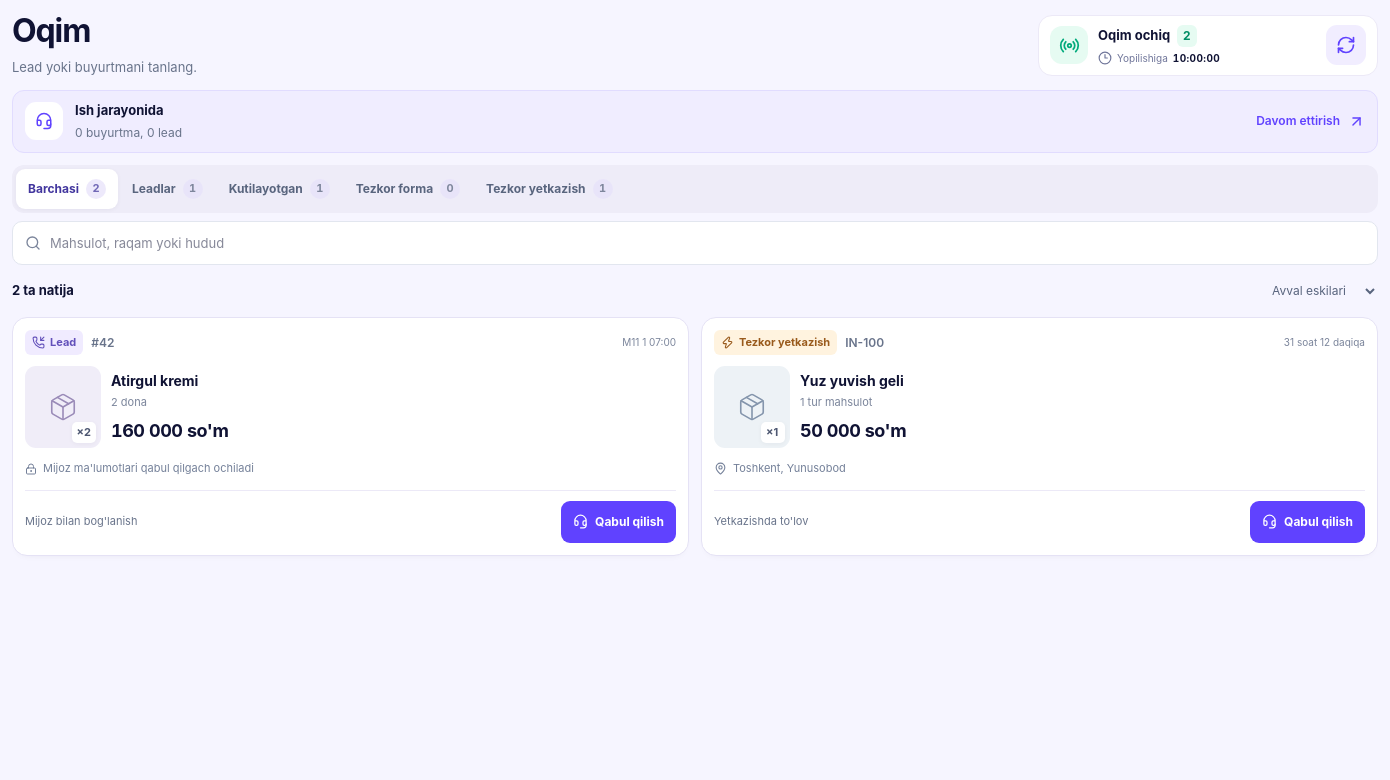
Test case: operator lead rendering regression › shows both types by default and keeps lead filtering independent of orders
Step 1. Click the button "Leadlar 1" → click(167, 189), box left=120, top=169, right=215, bottom=209
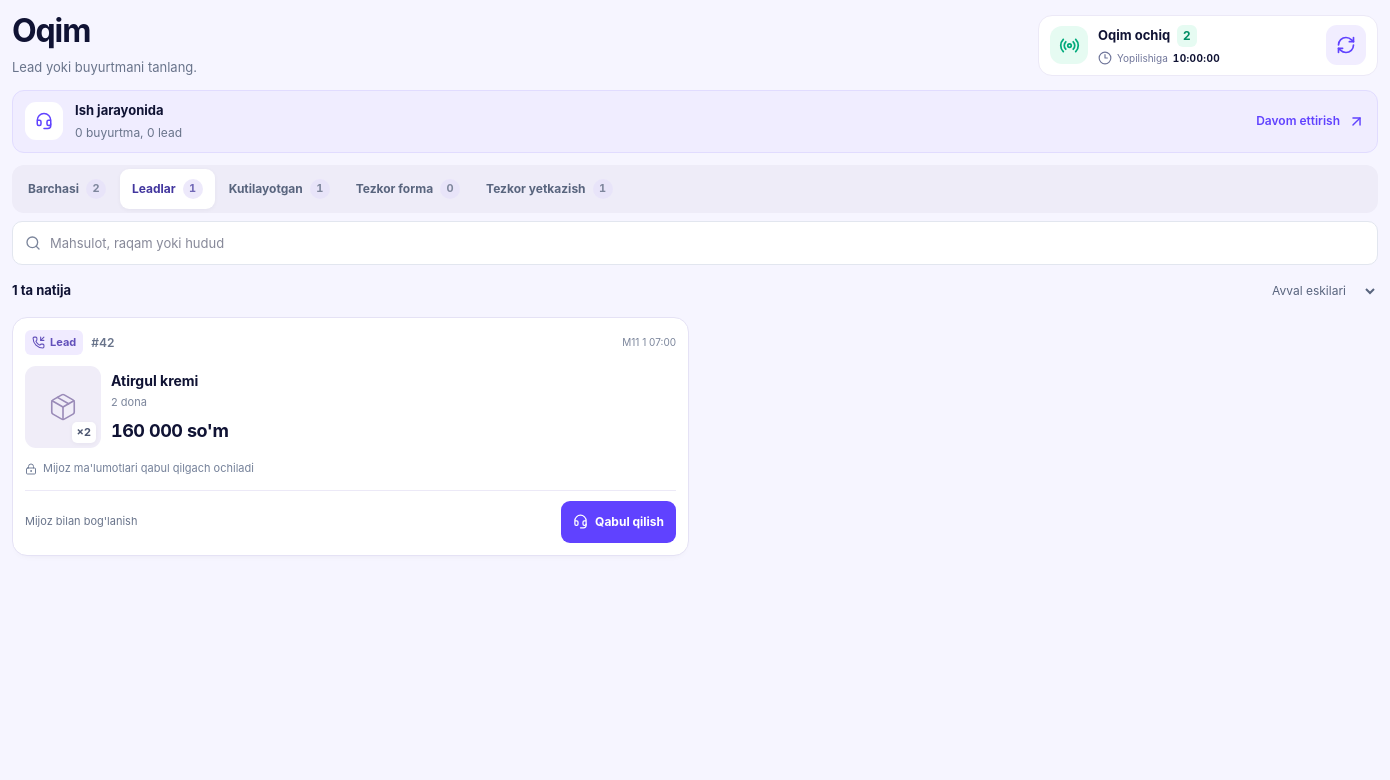
Expected: the heading "Atirgul kremi" is shown, left=111, top=372, right=198, bottom=389
Step 2. Click the button "Kutilayotgan 1" → click(279, 189), box left=217, top=169, right=342, bottom=209
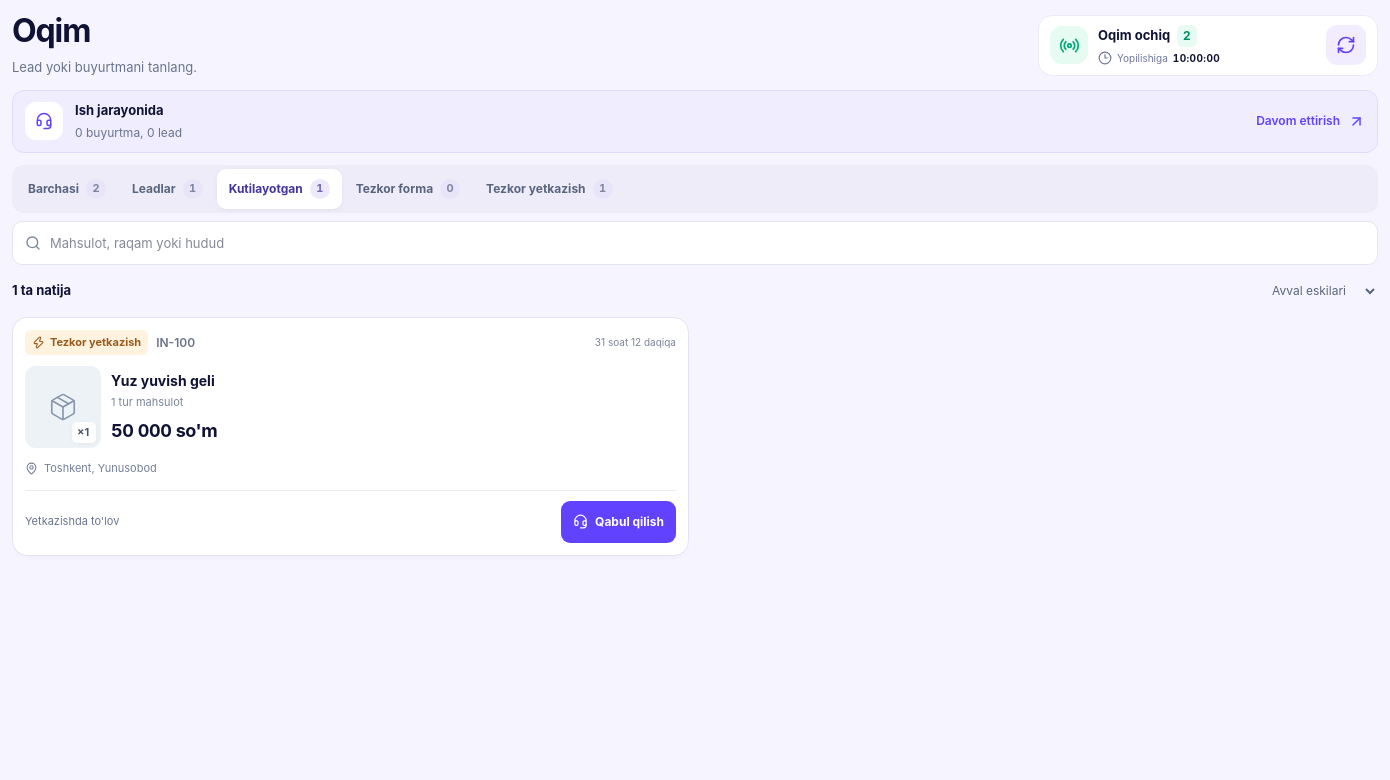
Result: the heading "Atirgul kremi" is gone
Result: the heading "Yuz yuvish geli" is shown at left=111, top=372, right=215, bottom=389
